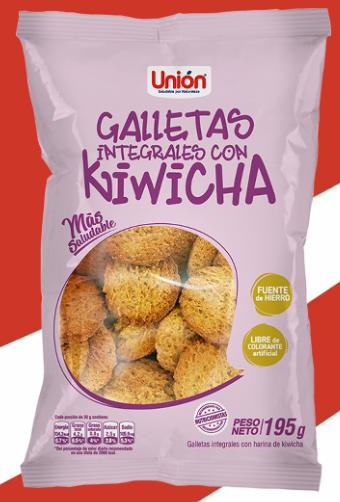brand: (148, 68, 210, 90)
net_weight: (264, 410, 306, 439)
product_name: (72, 102, 284, 204)
